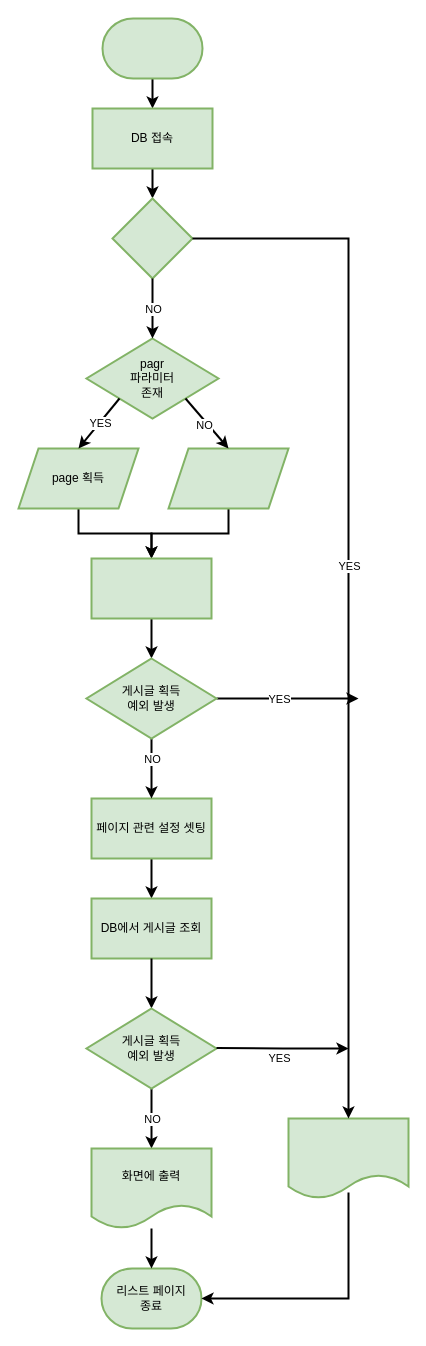
This 426x1346 diagram has some shape labels left out. Each missing label, with the centre of its shape:
"1획득" belongs at pixel 228 478.
"DB 접속 예외 발생" belongs at pixel 152 238.
"DB에서 게시글 수 획득" belongs at pixel 151 588.
"리스트 페이지 시작" belongs at pixel 152 48.
"예외 메세지 출력" belongs at pixel 348 1158.
